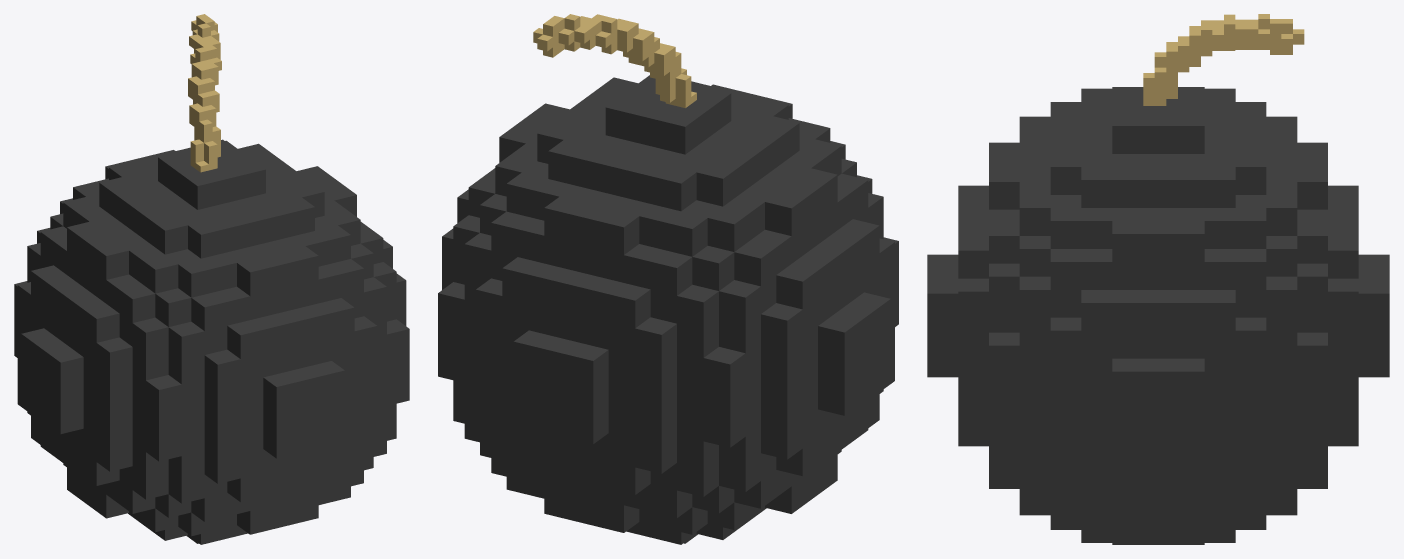
The model's file is Bomb.fbx.
3 views of the same model, side by side, from view 1: azimuth 30°, elevation 25°; view 2: azimuth 150°, elevation 25°; view 3: azimuth 270°, elevation 25° (orthographic). The views are drawn at different scales.
Parts seen in each view (by area): view 1: Bomb; view 2: Bomb; view 3: Bomb.
Boxes of the visible parts, <box> form: Bomb: <box>14,14,409,544</box>; Bomb: <box>438,14,898,544</box>; Bomb: <box>927,14,1389,544</box>.
Bounding box in the file's own units: 208 × 264 × 208.
